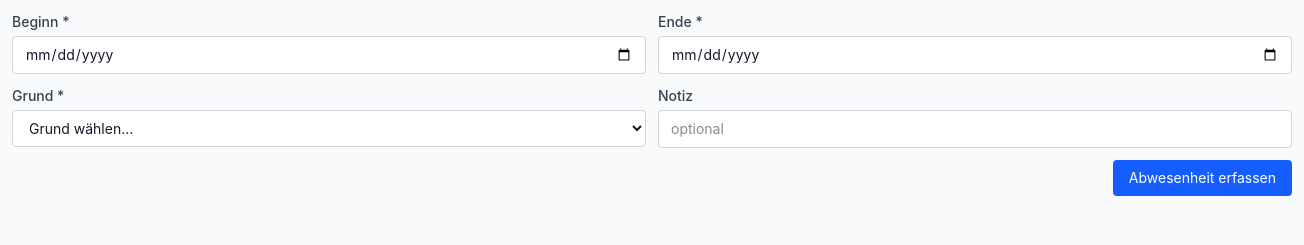
Test case: LeaderUnavailabilityForm › rejects submission when the reason is missing
The width and height of the screenshot is (1304, 245).
Type "2026-05-01" into the date field with test id "unavailability-start-date" at (329, 55), box [12,36,646,74]
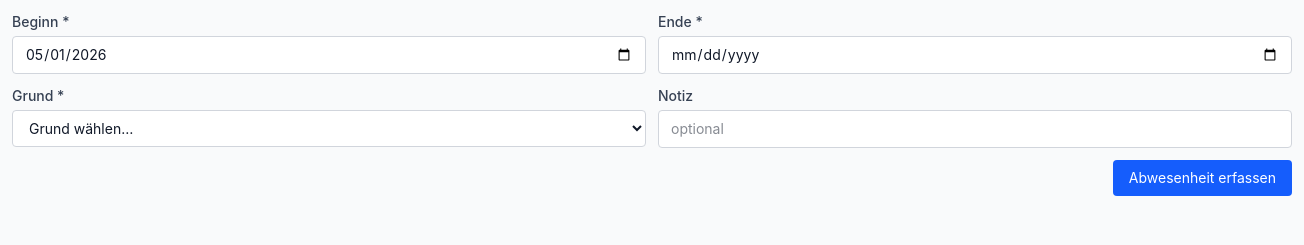
Type "2026-05-10" into the date field with test id "unavailability-end-date" at (975, 55), box [658,36,1292,74]
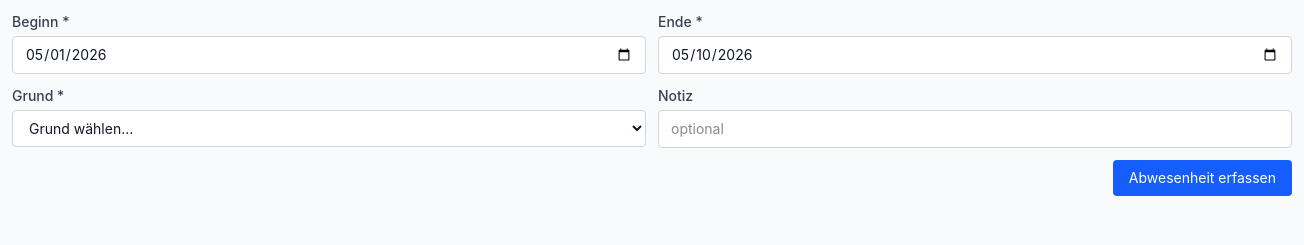
Submit the form from the button with test id "unavailability-submit", box [1113,160,1292,196]
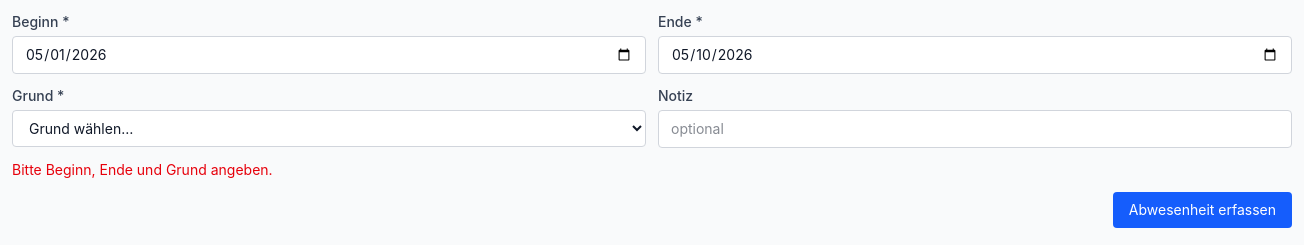
Check: the message with test id "unavailability-form-error" reads "Bitte Beginn, Ende und Grund angeben.", box [12,161,273,178]
